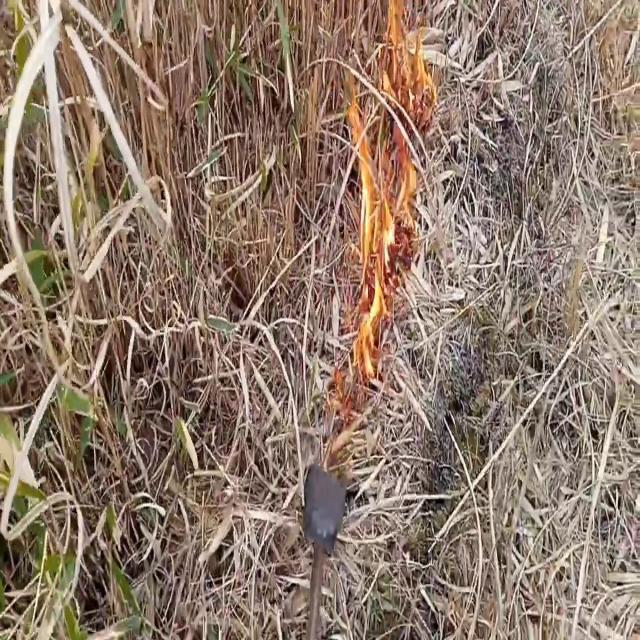Fire: (344, 112, 398, 399)
